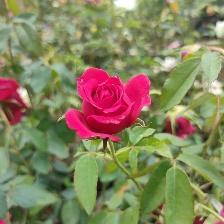rose: (64, 69, 154, 147)
